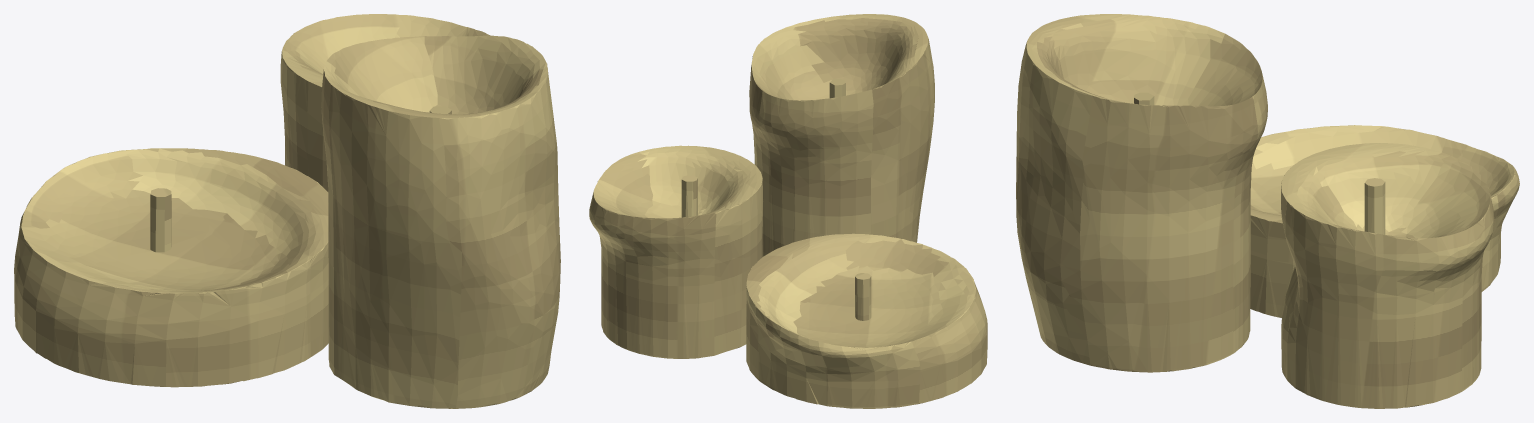
Rendered from candle1e.glb.
3 views of the same model, side by side, from view 1: azimuth 30°, elevation 25°; view 2: azimuth 150°, elevation 25°; view 3: azimuth 270°, elevation 25° (orthographic). The views are drawn at different scales.
Visible parts, largest first — view 1: candle3.010; view 2: candle3.010; view 3: candle3.010.
Part boxes in pixels (left/top/right/bottom): candle3.010: left=14, top=14, right=560, bottom=408; candle3.010: left=589, top=14, right=987, bottom=408; candle3.010: left=1016, top=14, right=1519, bottom=408.
Size of the model in its own units: 0.5024 by 0.3051 by 0.5022.
Materials: 1 (1 with a texture image).
